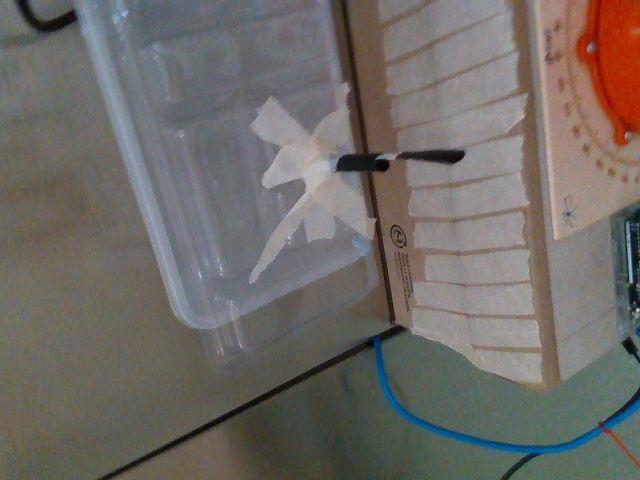test_strip: (376, 146, 466, 163)
